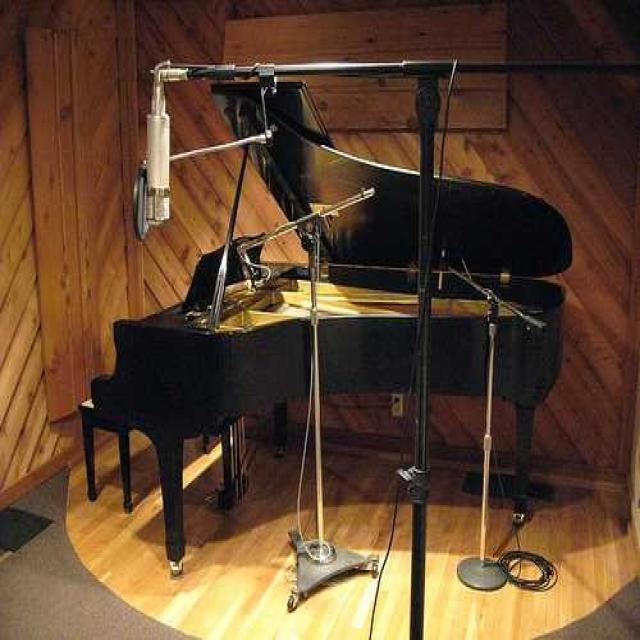microphone: (124, 67, 196, 265), (202, 224, 236, 358), (233, 223, 272, 305), (433, 244, 474, 316)
